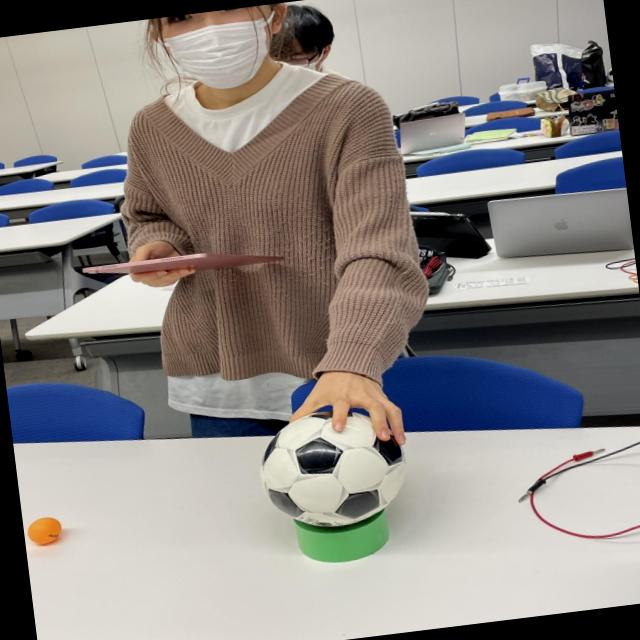Soccer Ball: (254, 401, 408, 534)
